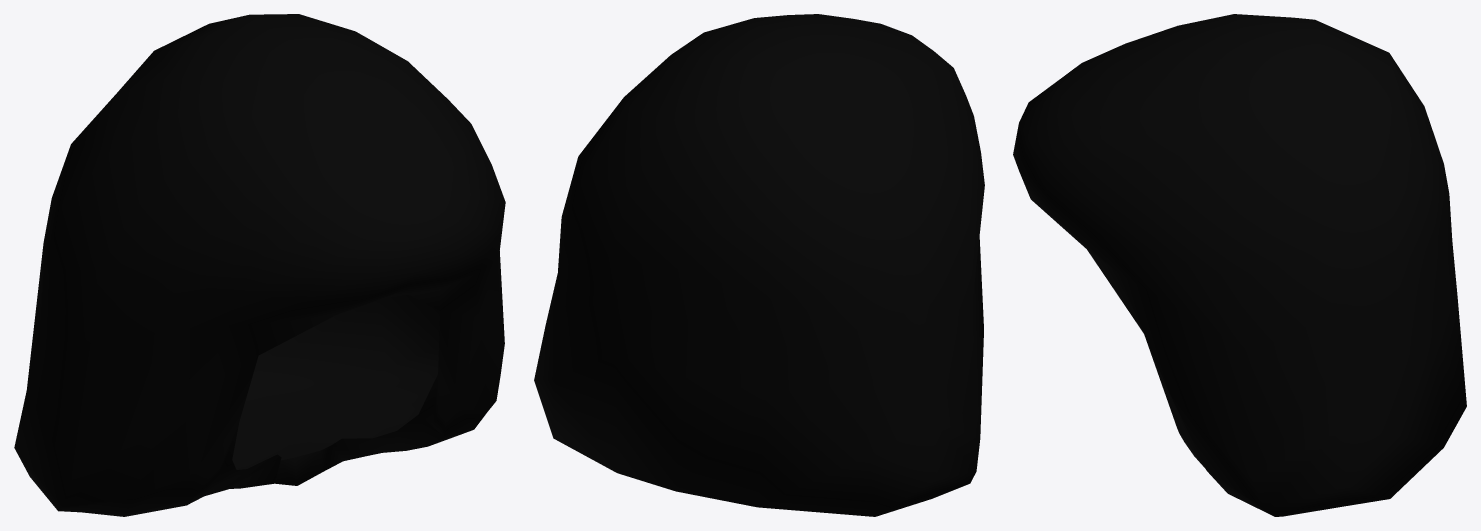
Rendered from NPC_BlackHair6.gltf.
The picture shows the model from 3 angles, left to right: view 1: azimuth 30°, elevation 25°; view 2: azimuth 150°, elevation 25°; view 3: azimuth 270°, elevation 25°; orthographic projection. The views are drawn at different scales.
Visible parts, largest first — view 1: NPC_BlackHair.006; view 2: NPC_BlackHair.006; view 3: NPC_BlackHair.006.
Boxes of the visible parts, x1,y1,x2,y2 form: NPC_BlackHair.006: [14, 14, 505, 516]; NPC_BlackHair.006: [534, 14, 984, 516]; NPC_BlackHair.006: [1013, 14, 1466, 516].
Size of the model in its own units: 0.7755 by 0.769 by 0.7601.
1 material, 1 textured.
